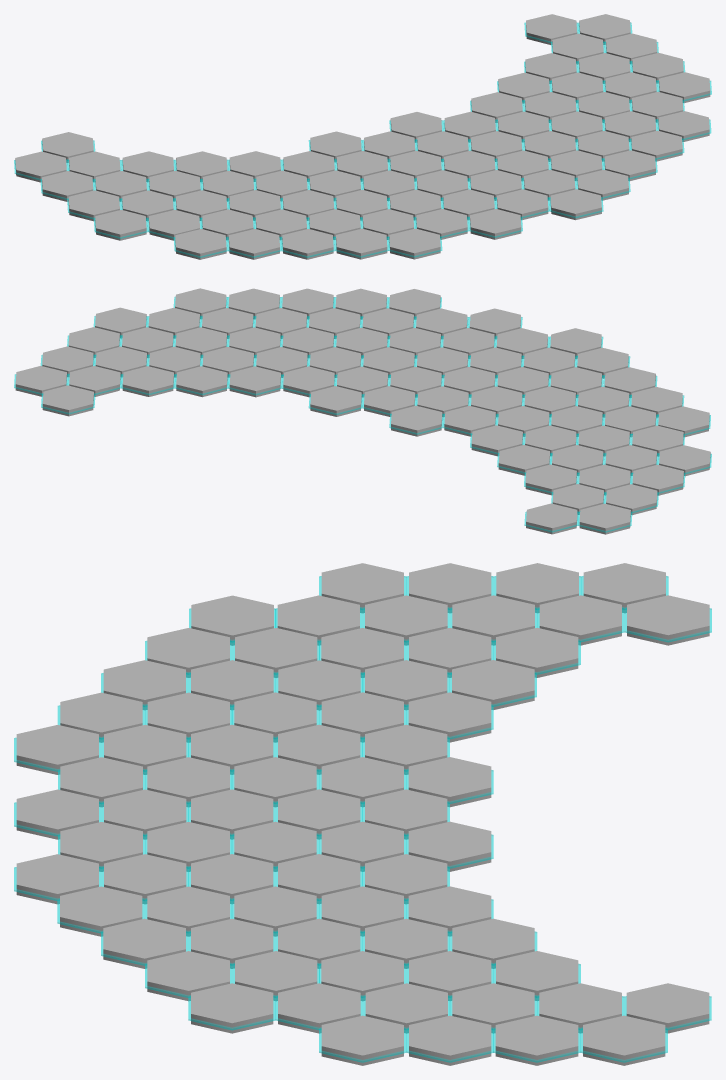
Rendered from Stage.fbx.
3 renders of one model, top to bottom at view 1: azimuth 30°, elevation 25°; view 2: azimuth 150°, elevation 25°; view 3: azimuth 270°, elevation 25°, orthographic. The views are drawn at different scales.
Parts seen in each view (by area): view 1: Stage; view 2: Stage; view 3: Stage.
Part boxes in pixels (left/top/right/bottom): Stage: left=14, top=14, right=711, bottom=259; Stage: left=14, top=288, right=711, bottom=534; Stage: left=14, top=563, right=711, bottom=1065.
Size of the model in its own units: 576 by 5.64 by 343.
